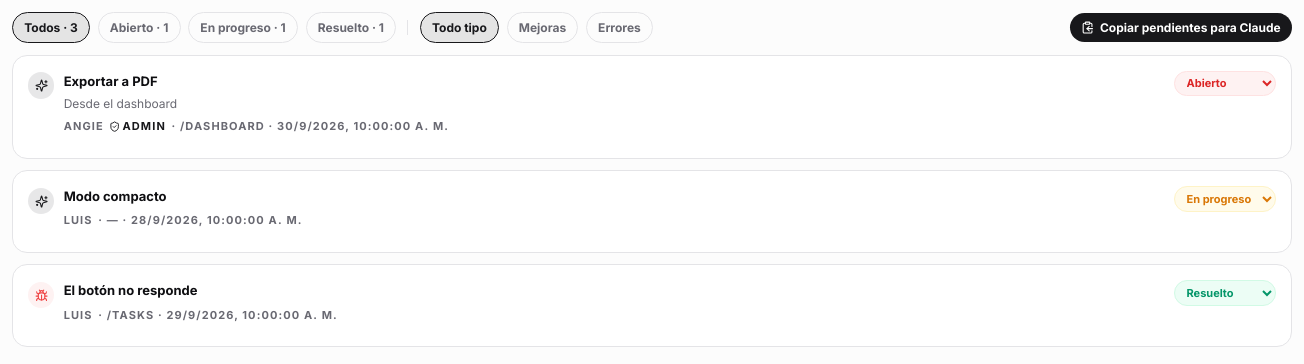
Test: TicketsTab › filtra por estado y por tipo
The image size is (1304, 364).
Expected: the text "Exportar a PDF" is shown, x1=64 y1=72 x2=158 y2=88
What coordinates should you click on to do the following:
click the button "Resuelto · 1"
I would click on:
 (351, 28)
Its box is x1=306 y1=12 x2=396 y2=43.
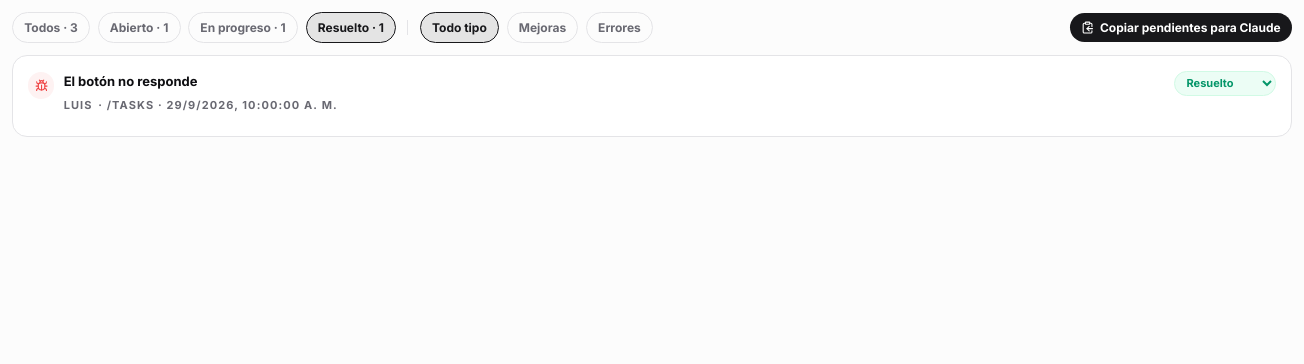
Expected: the text "El botón no responde" is shown, x1=64 y1=72 x2=197 y2=88
Now the text "Exportar a PDF" is gone
What coordinates should you click on to do the following:
click the button "Todos · 3"
I would click on:
 (51, 28)
Its box is x1=12 y1=12 x2=90 y2=43.
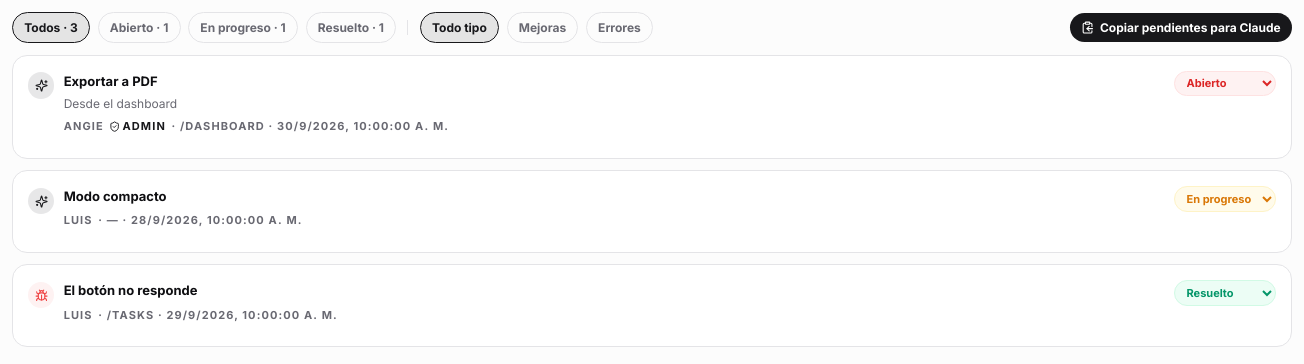
What coordinates should you click on to do the following:
click the button "Mejoras"
I would click on:
 (542, 28)
Its box is x1=506 y1=12 x2=578 y2=43.
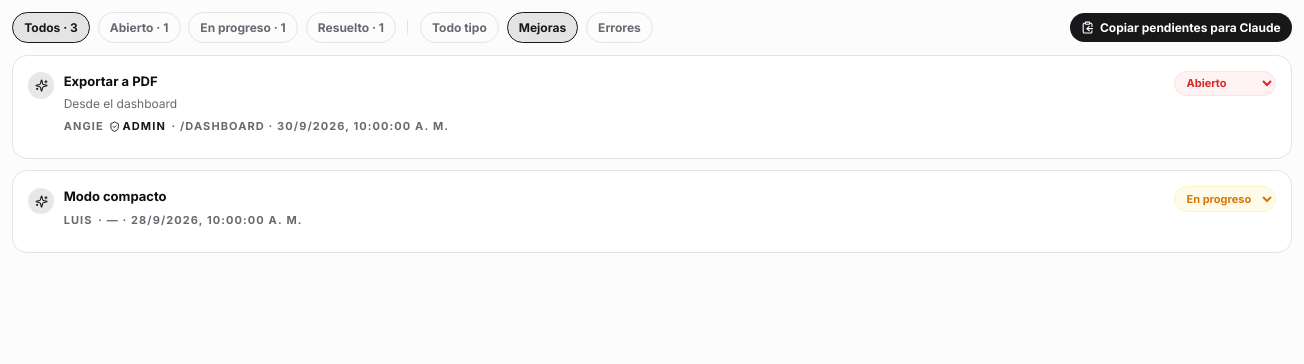
Expected: the number of dropdowns is 2, x1=1174 y1=70 x2=1276 y2=96; x1=1174 y1=186 x2=1276 y2=212
Now the text "El botón no responde" is gone
